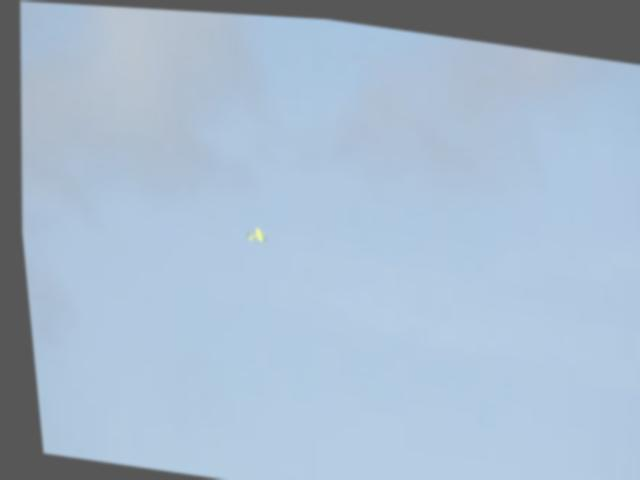plane: (239, 223, 263, 241)
